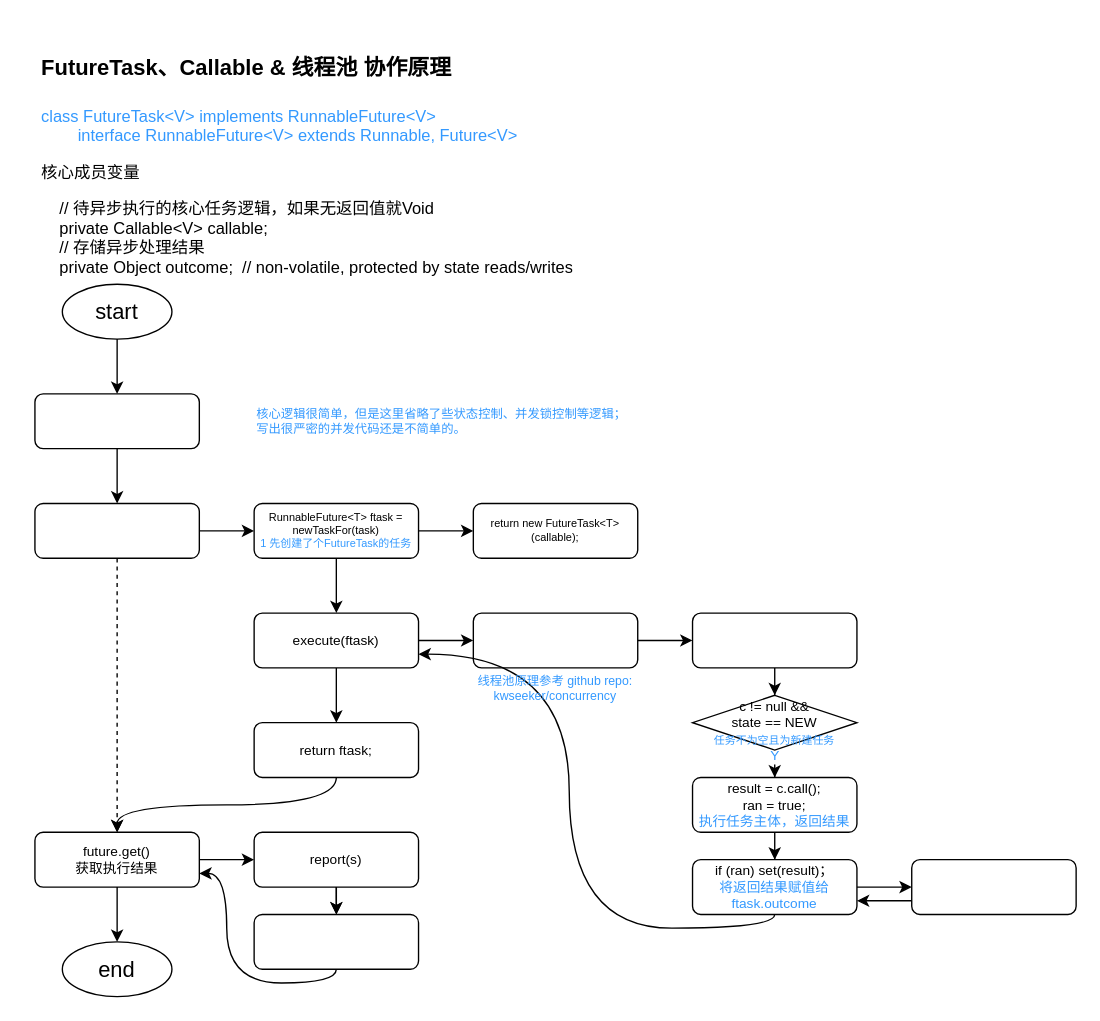
Image size: 1100x1021. Some labels were removed from this diagram. Here are the shapes that lost their labels. From the top down, the centre of each, then its label:
[116,421]: POOL_EXECUTOR = new ThreadPoolExecutor() 创建自定义线程池
[116,530]: POOL_EXECUTOR.submit( AsyncThreadPoolTest::doSomethingB) 往线程池提交Callable任务
[555,640]: 将FutureTask提交到线程池执行 线程池具体怎么执行的这里不是重点，但是最终肯定是执行里面的run()方法
[774,640]: Callable<V> c = callable; 首先获取任务主体
[993,886]: outcome = v;
[336,941]: Object x = outcome; return (V)x; 取出ftask.outcome的值
